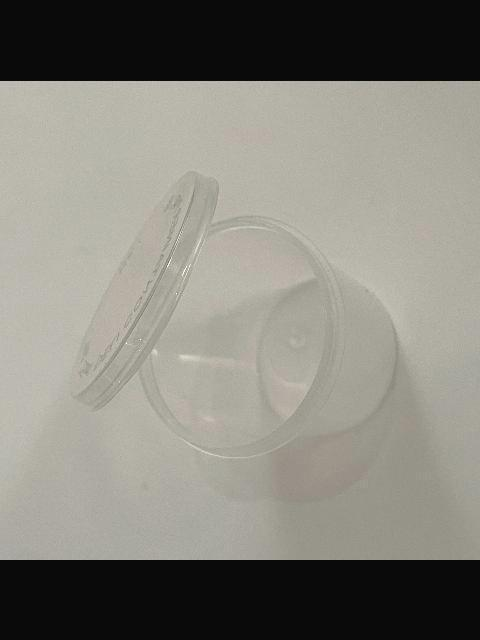plasticcontainer: (66, 168, 402, 460)
